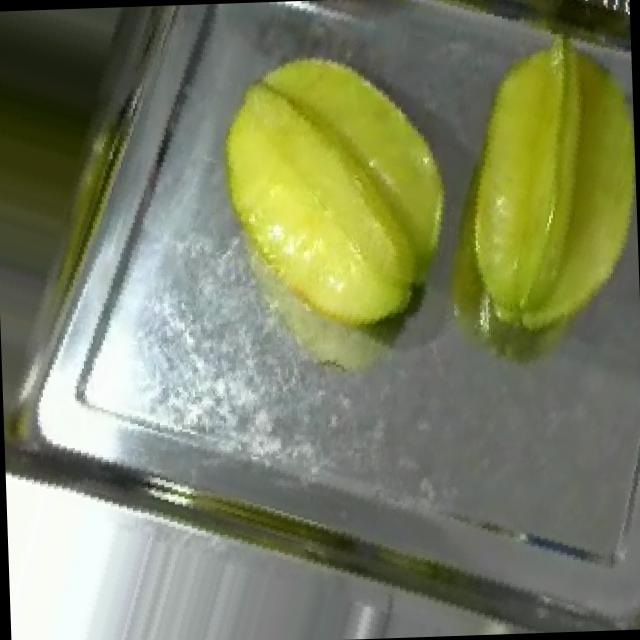fruit: (159, 7, 486, 382), (387, 6, 640, 368)
